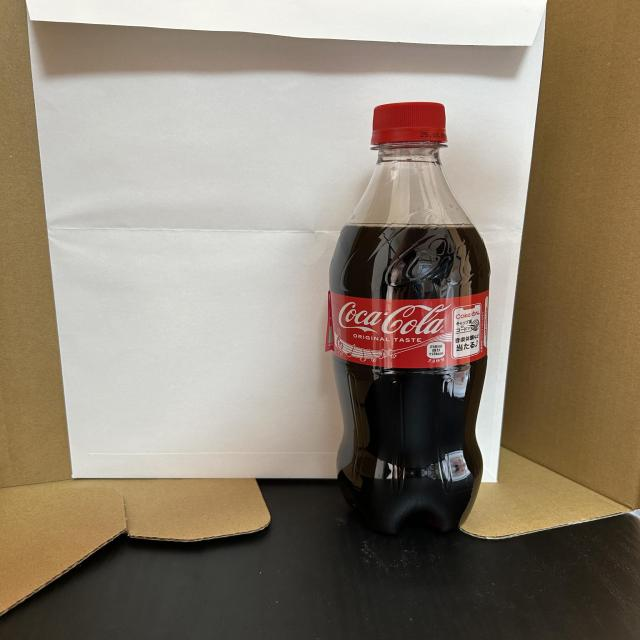high: (327, 102, 490, 532)
